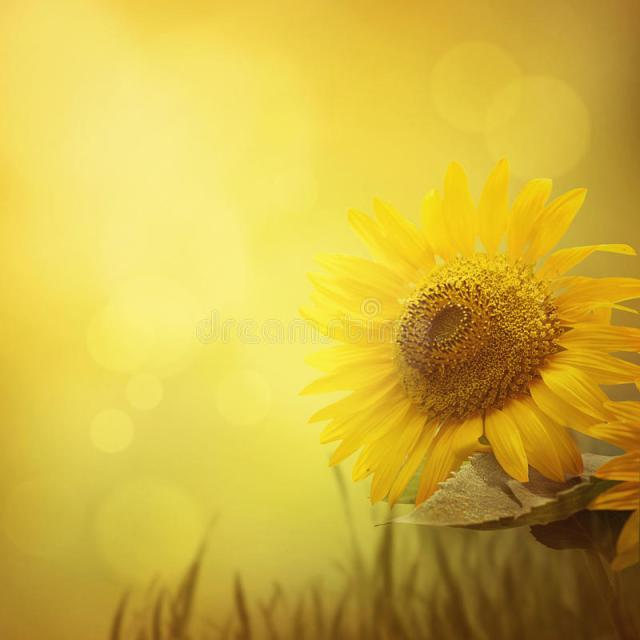sunflower: (297, 150, 640, 499)
